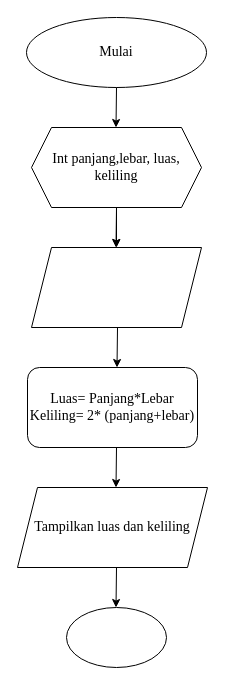
The diagram is 225 pixels wide and 685 high, and some of its shapes have lost their labels. The box of each missing label's shape, as (x1, y1, x2, y2) in pixels:
input: panjang, lebar: (30, 246, 202, 328)
Selesai: (66, 606, 166, 668)
